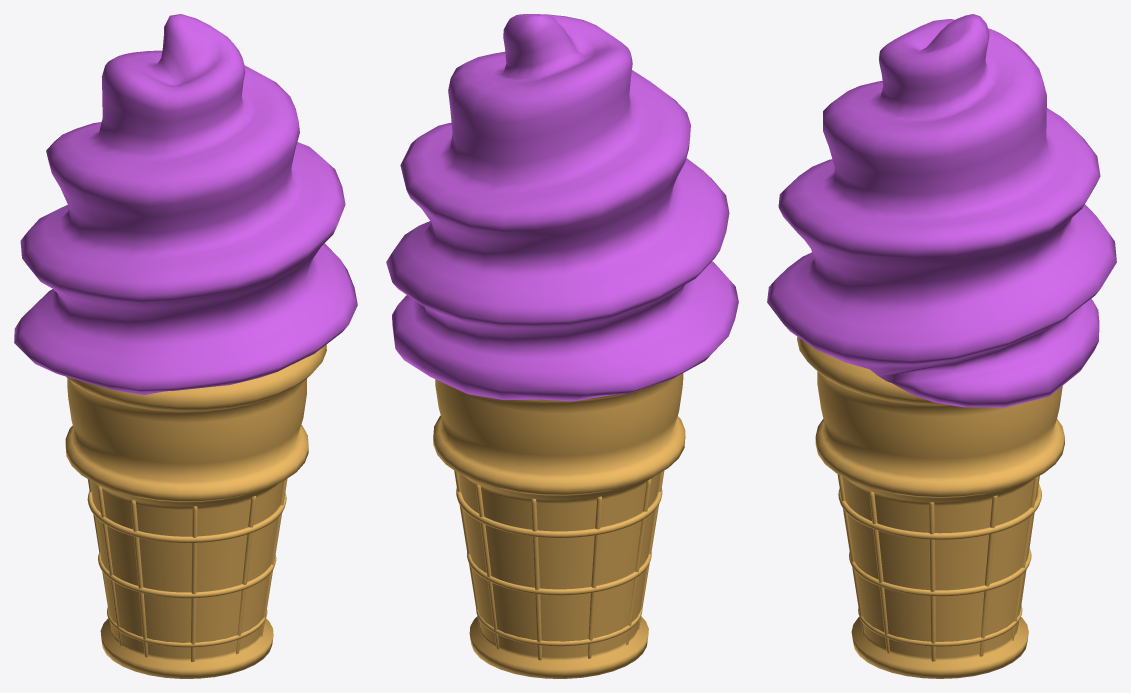
The model's file is lody krecone gotowe1.fbx.
3 views of the same model, side by side, from view 1: azimuth 30°, elevation 25°; view 2: azimuth 150°, elevation 25°; view 3: azimuth 270°, elevation 25° (orthographic). The views are drawn at different scales.
Parts seen in each view (by area): view 1: Cube; view 2: Cube; view 3: Cube.
Boxes of the visible parts, x1,y1,x2,y2 form: Cube: (14,14,357,678); Cube: (386,14,738,678); Cube: (767,14,1116,678).
Bounding box in the file's own units: 428 × 834 × 421.
